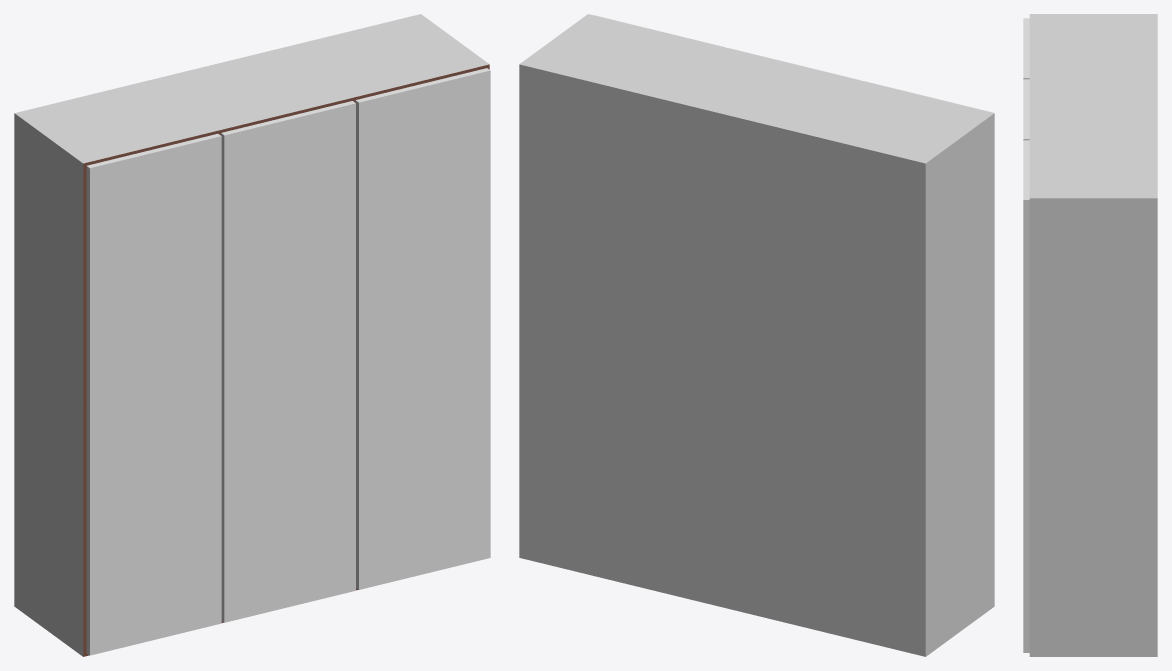
The model's file is closet_016.glb.
3 views of the same model, side by side, from view 1: azimuth 30°, elevation 25°; view 2: azimuth 150°, elevation 25°; view 3: azimuth 270°, elevation 25° (orthographic). The views are drawn at different scales.
Visible parts, largest first — view 1: closet_016; view 2: closet_016; view 3: closet_016.
Boxes of the visible parts, left/top/right/bottom form: closet_016: left=14, top=14, right=490, bottom=656; closet_016: left=519, top=14, right=994, bottom=656; closet_016: left=1023, top=14, right=1157, bottom=656.
Size of the model in its own units: 1.95 by 2.26 by 0.5989.
1 material, 1 textured.
